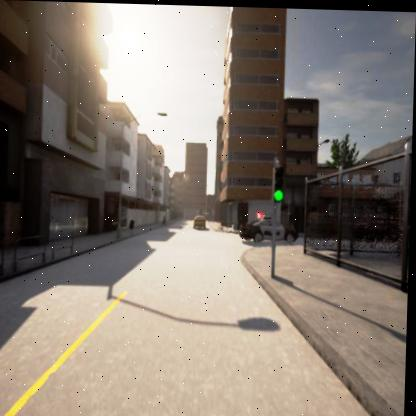vehicle: (244, 214, 300, 243), (194, 214, 207, 229)
